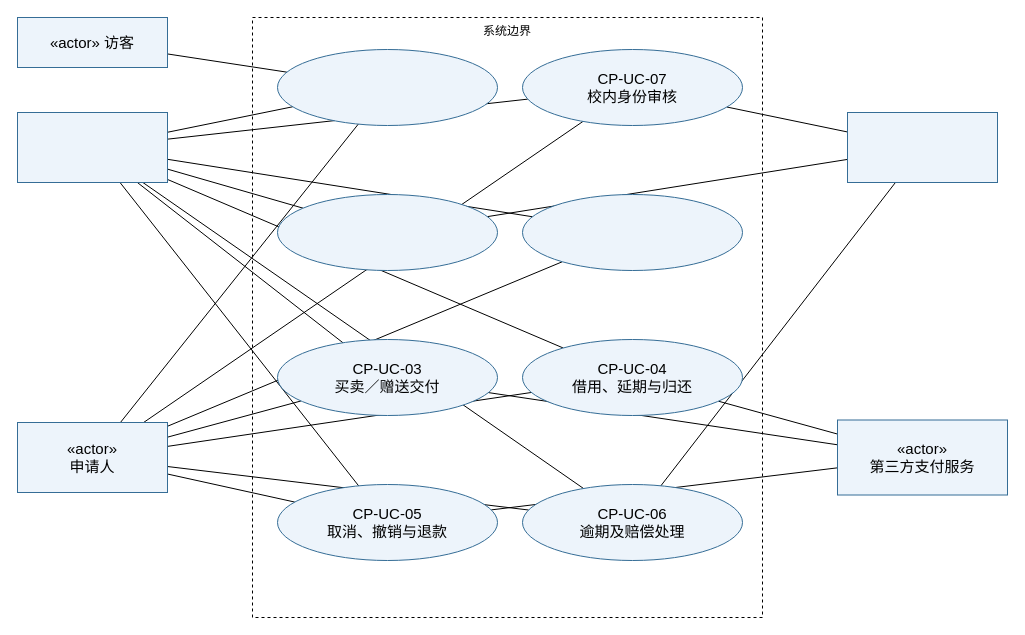
The diagram is 1025 pixels wide and 635 high, and some of its shapes have lost their labels. The centre of each missing label's shape, as x and y in pixels:
"CP-UC-00 浏览公开物品" belongs at point 387,87.
"CP-UC-01 发布及内容审核" belongs at point 387,232.
"CP-UC-02 申请、选择与预留" belongs at point 632,232.
"«actor» 物主" belongs at point 92,147.
"«actor» 管理员" belongs at point 922,147.
